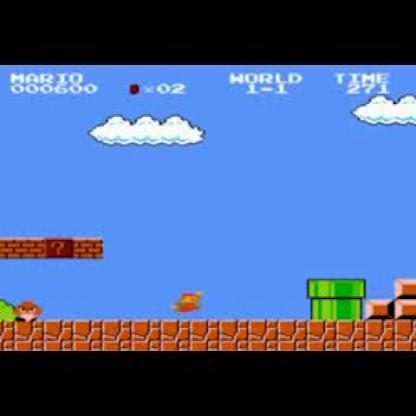Goomba: (13, 298, 42, 324)
